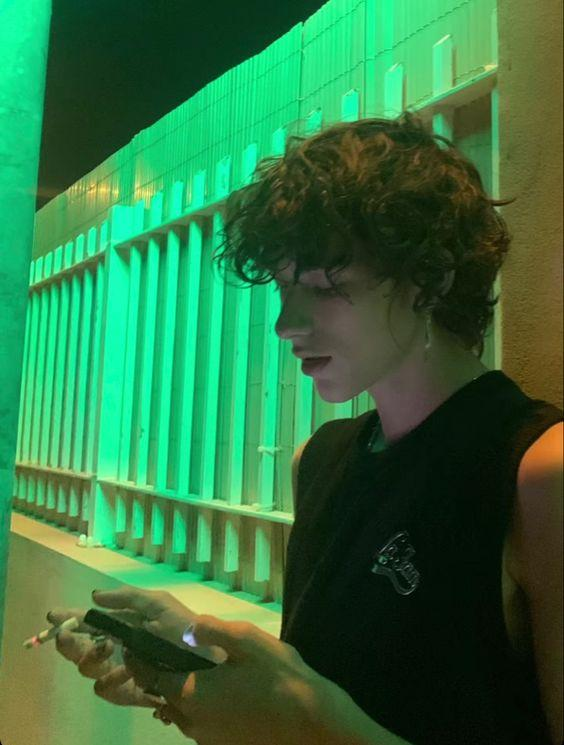cigarette: (20, 618, 85, 650)
